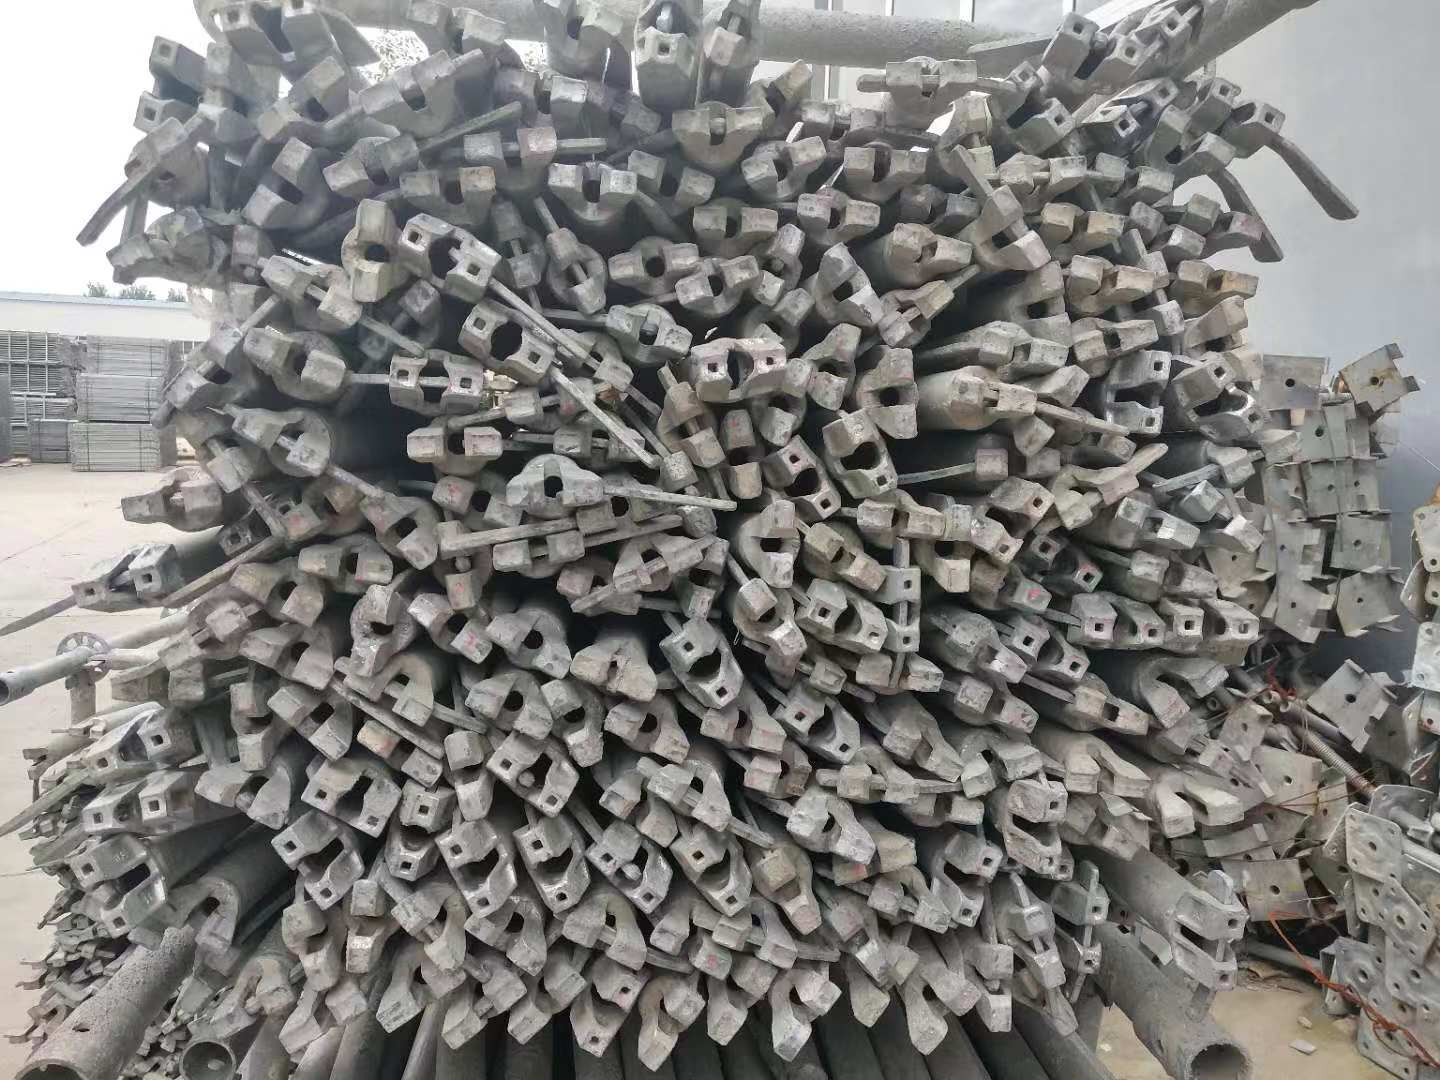NHsquare_steel: (255, 54, 349, 142), (239, 323, 344, 394), (166, 320, 242, 414), (439, 971, 528, 1051), (107, 206, 204, 278), (264, 260, 361, 331), (159, 602, 251, 674), (280, 982, 365, 1058), (236, 408, 328, 479), (243, 138, 315, 227), (908, 971, 979, 1060), (271, 687, 353, 763), (848, 942, 917, 1031), (408, 592, 492, 666), (359, 51, 455, 116), (364, 487, 437, 571), (511, 962, 585, 1044), (376, 967, 467, 1032), (541, 223, 605, 315), (281, 902, 348, 990), (209, 976, 296, 1043), (776, 971, 841, 1060), (345, 202, 400, 306), (396, 892, 468, 971), (984, 187, 1052, 271), (229, 566, 323, 626), (641, 982, 705, 1070), (179, 410, 247, 492), (200, 771, 291, 832), (361, 720, 444, 786), (736, 579, 807, 656), (320, 135, 421, 189), (789, 803, 876, 866), (667, 382, 729, 470), (1187, 483, 1263, 555), (711, 959, 776, 1043), (824, 898, 889, 980), (880, 280, 957, 348), (488, 617, 571, 680), (1204, 299, 1267, 382), (821, 247, 887, 326), (801, 528, 886, 588), (625, 147, 717, 203), (495, 64, 593, 116), (244, 632, 331, 690), (464, 682, 552, 739), (564, 911, 649, 970), (492, 200, 547, 292), (600, 783, 677, 847), (655, 766, 732, 830), (883, 722, 964, 783), (409, 2, 513, 50), (545, 680, 601, 768), (651, 920, 731, 980), (151, 895, 232, 954), (557, 332, 635, 394), (951, 680, 1037, 735), (1217, 430, 1303, 486), (1180, 189, 1268, 244), (427, 479, 524, 528), (600, 310, 696, 358), (217, 220, 264, 319), (1060, 466, 1137, 526), (607, 707, 689, 762), (1017, 902, 1068, 992), (553, 571, 643, 622), (571, 650, 659, 702), (1159, 658, 1229, 723), (351, 583, 399, 678), (577, 487, 672, 534), (1129, 202, 1211, 258), (225, 680, 273, 773), (972, 942, 1020, 1035), (869, 880, 949, 936), (397, 164, 503, 206), (348, 670, 432, 724), (1068, 798, 1140, 860), (664, 454, 719, 535), (432, 518, 480, 611), (175, 936, 232, 1012), (960, 743, 1044, 795), (547, 160, 641, 206), (501, 378, 598, 423), (676, 258, 763, 307), (715, 916, 801, 967), (752, 226, 803, 311), (948, 624, 1023, 682), (1128, 551, 1219, 599), (977, 328, 1075, 372), (1113, 498, 1200, 548), (1068, 687, 1152, 739), (737, 135, 829, 182), (753, 500, 801, 590), (1067, 254, 1157, 302), (952, 99, 1001, 186), (876, 344, 920, 442), (1028, 258, 1075, 348), (344, 879, 388, 974), (201, 44, 242, 147), (1163, 787, 1245, 838), (400, 427, 505, 466), (720, 412, 765, 503), (444, 734, 491, 822), (812, 323, 859, 410), (613, 542, 703, 588), (857, 498, 945, 545), (1092, 152, 1179, 199), (535, 3, 628, 47), (1141, 252, 1185, 341), (696, 708, 788, 751), (119, 486, 225, 523), (708, 1, 764, 70), (889, 226, 975, 271), (947, 376, 1037, 419), (881, 59, 983, 96), (1161, 727, 1233, 781), (937, 503, 977, 596), (684, 535, 728, 621), (1044, 202, 1129, 246), (973, 564, 1051, 611), (549, 424, 645, 463), (672, 103, 765, 143), (795, 194, 881, 236), (1175, 256, 1261, 298), (753, 56, 815, 113), (1061, 756, 1152, 795), (507, 475, 609, 511), (495, 531, 588, 569), (856, 655, 945, 694), (845, 144, 927, 186), (461, 128, 564, 162), (1005, 152, 1092, 192), (801, 100, 887, 140), (611, 244, 700, 282), (833, 767, 921, 805), (971, 446, 1068, 480), (588, 87, 663, 132), (111, 675, 209, 707), (692, 206, 779, 242), (768, 653, 845, 691), (753, 290, 813, 338), (899, 191, 983, 223), (1073, 326, 1157, 358), (910, 795, 988, 828)
THsquare_steel: (400, 219, 501, 296), (463, 310, 554, 383), (677, 827, 753, 914), (85, 716, 188, 779), (431, 826, 503, 914), (1193, 352, 1269, 436), (513, 822, 583, 912), (132, 34, 195, 132), (777, 690, 861, 763), (576, 968, 644, 1058), (1059, 14, 1152, 78), (297, 773, 391, 836), (1201, 79, 1291, 144), (73, 854, 139, 942), (777, 434, 844, 522), (388, 784, 449, 879), (760, 847, 824, 936), (667, 630, 742, 704), (276, 827, 341, 908), (986, 482, 1054, 559), (1008, 64, 1075, 142), (832, 414, 896, 496), (801, 592, 886, 652), (693, 347, 789, 399), (221, 492, 300, 555), (1117, 351, 1174, 438), (1007, 622, 1092, 680), (952, 836, 1001, 930), (1020, 786, 1069, 876), (1164, 602, 1263, 647), (1079, 604, 1164, 655), (221, 3, 325, 44), (829, 838, 917, 886), (81, 790, 179, 832), (1032, 535, 1103, 590)
THsquare_steel_blocked: (73, 546, 177, 614), (585, 832, 669, 912), (488, 736, 571, 811), (383, 355, 485, 406), (1101, 78, 1181, 143), (1193, 898, 1245, 992), (1149, 1, 1231, 48), (883, 568, 925, 656), (639, 1, 691, 70), (1075, 891, 1113, 970)
circle_steel: (1179, 1040, 1254, 1080), (179, 1040, 238, 1080)
